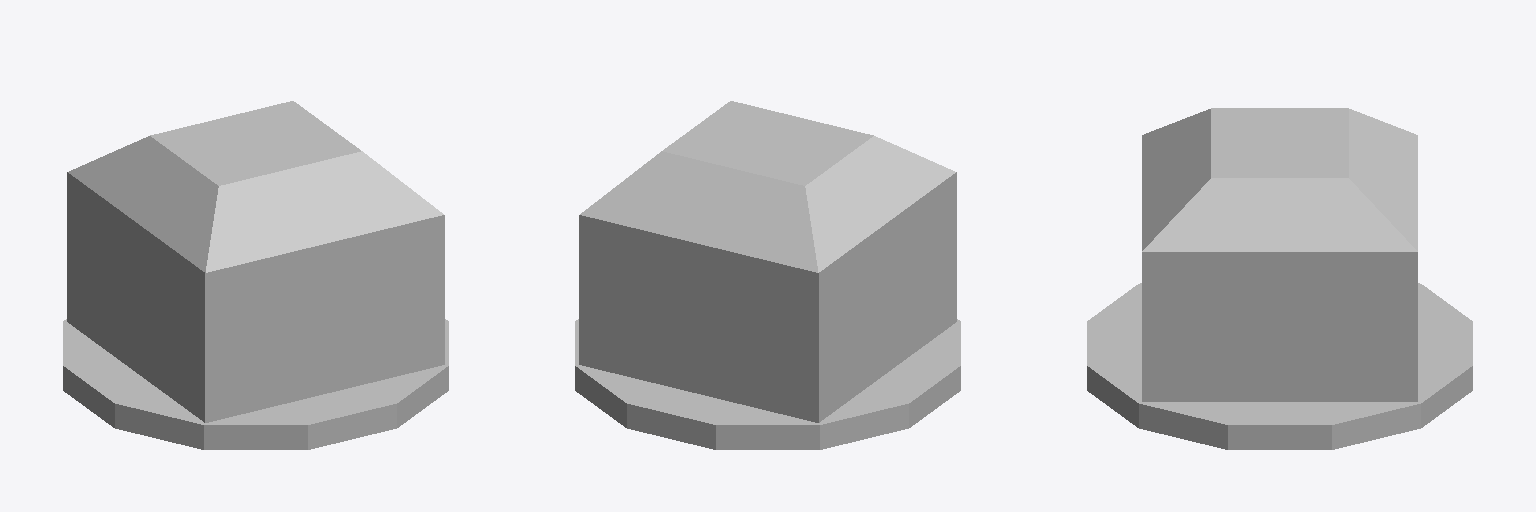
Rendered from cannon2_barrel_base.obj.
3 views of the same model, side by side, from view 1: azimuth 30°, elevation 25°; view 2: azimuth 150°, elevation 25°; view 3: azimuth 270°, elevation 25° (orthographic).
Size of the model in its own units: 8.75 by 5.62 by 8.75.